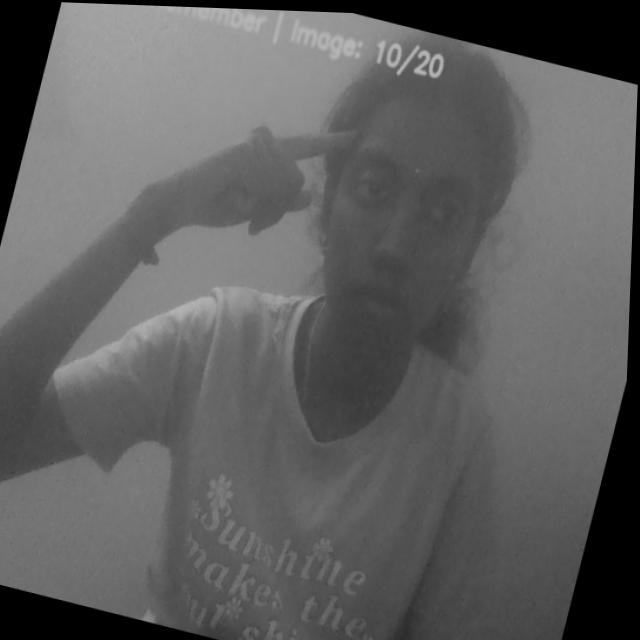Remember: (126, 69, 368, 281)
